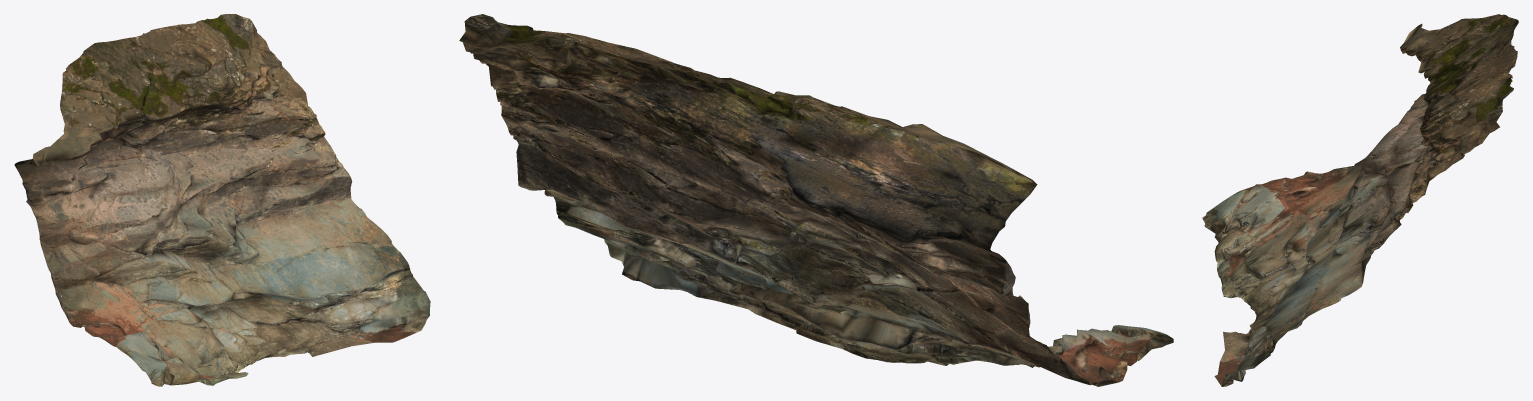
Rendered from rock-face.glb.
3 views of the same model, side by side, from view 1: azimuth 30°, elevation 25°; view 2: azimuth 150°, elevation 25°; view 3: azimuth 270°, elevation 25° (orthographic). The views are drawn at different scales.
Visible parts, largest first — view 1: rock_face_01; view 2: rock_face_01; view 3: rock_face_01.
Boxes of the visible parts, x1=… form: rock_face_01: x1=14, y1=14, x2=430, y2=386; rock_face_01: x1=459, y1=14, x2=1173, y2=386; rock_face_01: x1=1202, y1=14, x2=1518, y2=386.
Size of the model in its own units: 4.95 by 3.56 by 3.82.
1 material, 1 textured.
